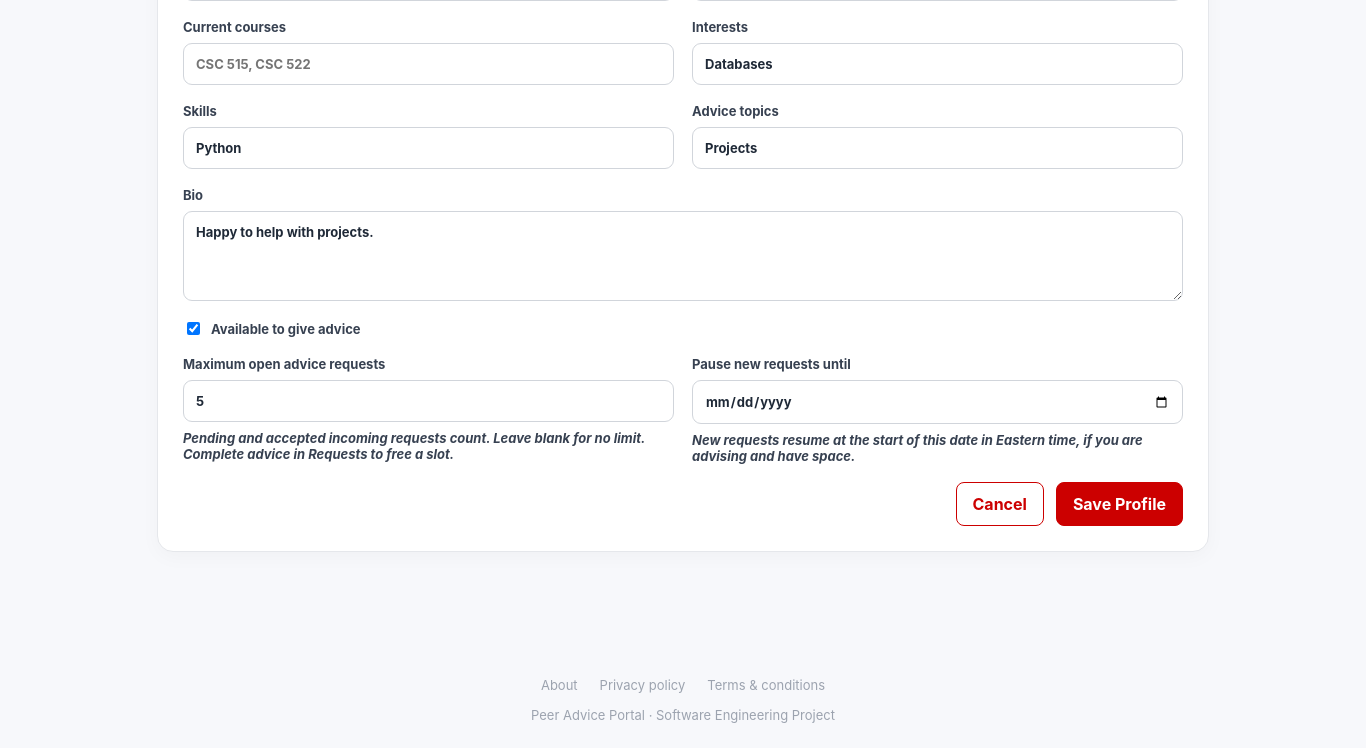
it: profile editor › persists capacity and pause settings with numeric and ISO-date values
(page scrolled)
Replace the text in the number field labelled "Maximum open advice requests" with "2" at (428, 401), box top-left (183, 380), bottom-right (674, 422)
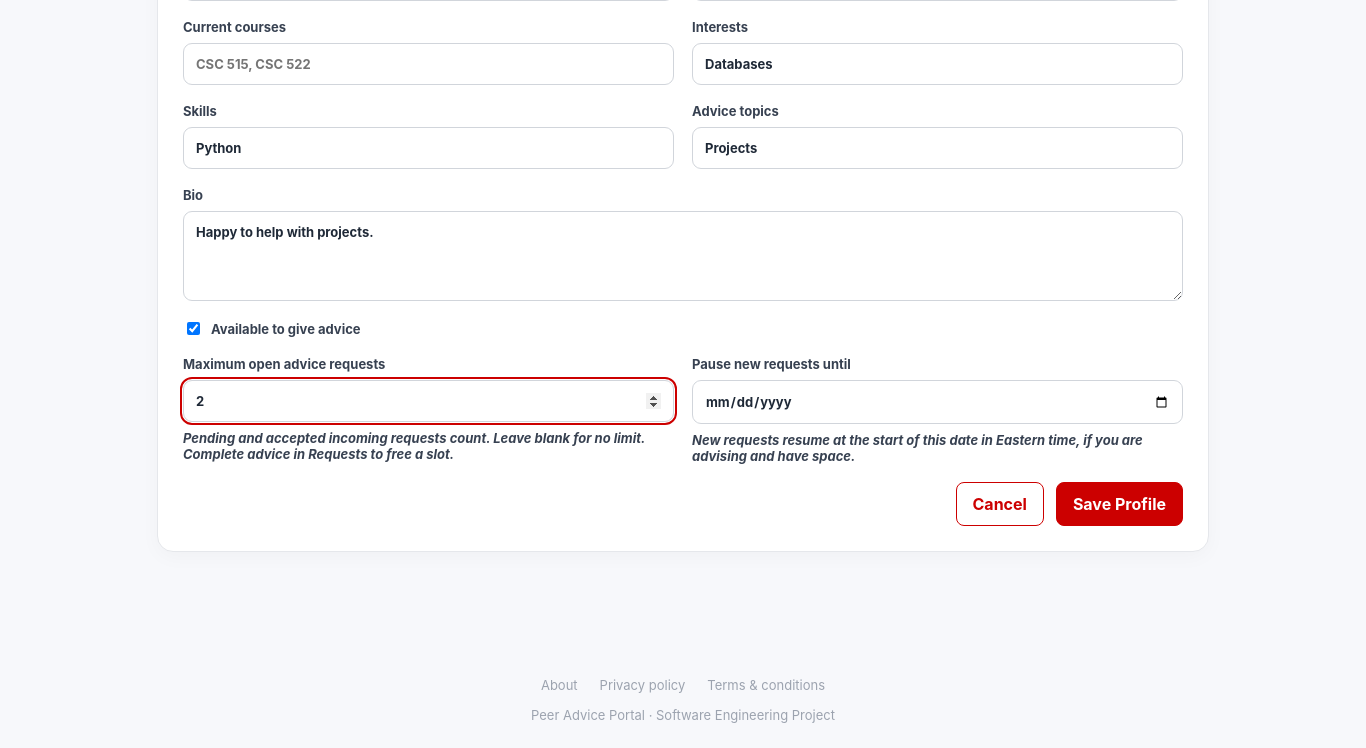
Type "2027-01-15" into the date field labelled "Pause new requests until" at (938, 402), box top-left (692, 380), bottom-right (1183, 424)
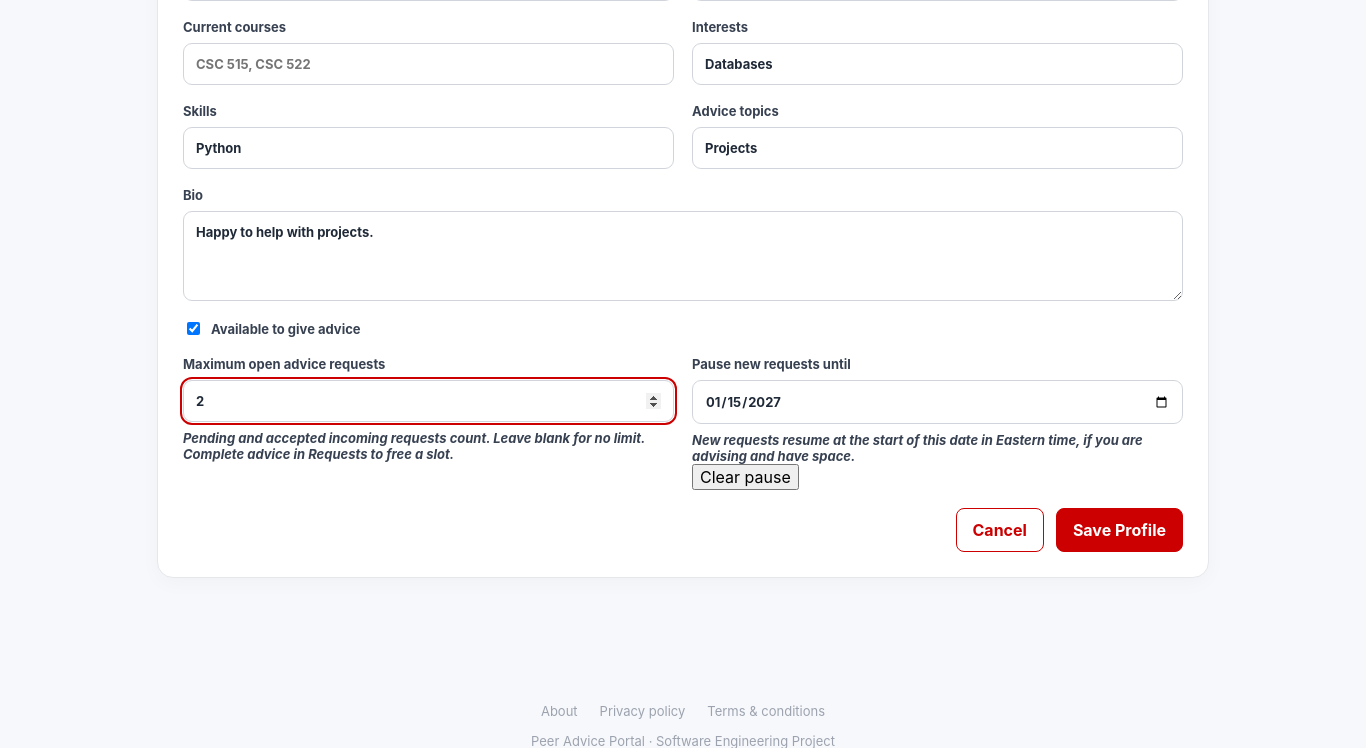
Click the button "Save Profile" at (1119, 530), box top-left (1056, 508), bottom-right (1183, 552)
(page scrolled)
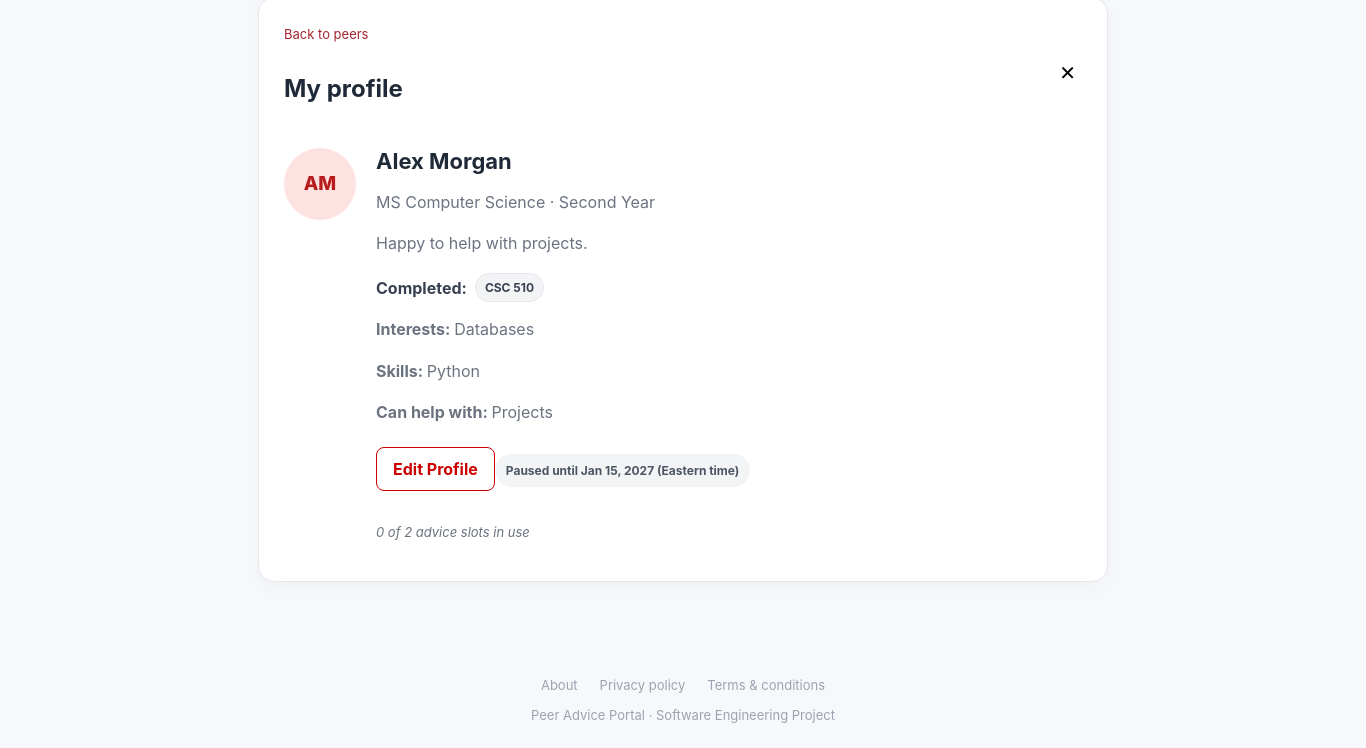
Now the text "Paused until Jan 15, 2027 (Eastern time)" is shown, box top-left (495, 454), bottom-right (750, 487)
